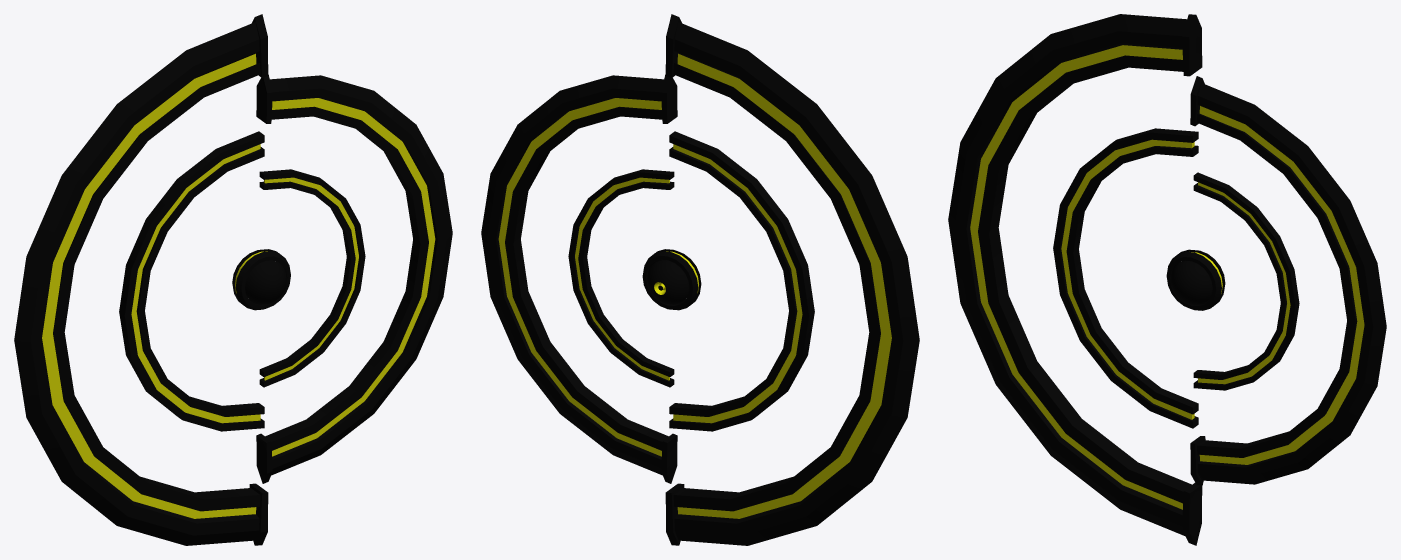
File: MainCharacter 1.fbx
3 views of the same model, side by side, from view 1: azimuth 30°, elevation 25°; view 2: azimuth 150°, elevation 25°; view 3: azimuth 330°, elevation 25° (orthographic).
Visible parts, largest first — view 1: Ring4, Ring3, ring2, Ring1, Eye, InnerRing; view 2: Ring4, Ring3, ring2, Ring1, Eye, InnerRing; view 3: Ring4, Ring3, ring2, Ring1, Eye, InnerRing.
Part boxes in pixels (box(x1,y1,x2,y2)): Ring4: box(14, 14, 268, 545); Ring3: box(256, 74, 452, 483); ring2: box(119, 131, 264, 431); Ring1: box(259, 169, 365, 387); Eye: box(245, 260, 286, 304); InnerRing: box(232, 249, 290, 310); Ring4: box(665, 14, 919, 545); Ring3: box(481, 74, 677, 483); ring2: box(669, 131, 814, 431); Ring1: box(568, 169, 674, 387); Eye: box(647, 259, 689, 304); InnerRing: box(642, 249, 701, 310); Ring4: box(948, 14, 1202, 545); Ring3: box(1190, 76, 1386, 485); ring2: box(1053, 128, 1198, 428); Ring1: box(1193, 172, 1299, 390); Eye: box(1170, 260, 1212, 305); InnerRing: box(1166, 249, 1225, 310).
Size of the model in its own units: 335 by 387 by 32.66.
